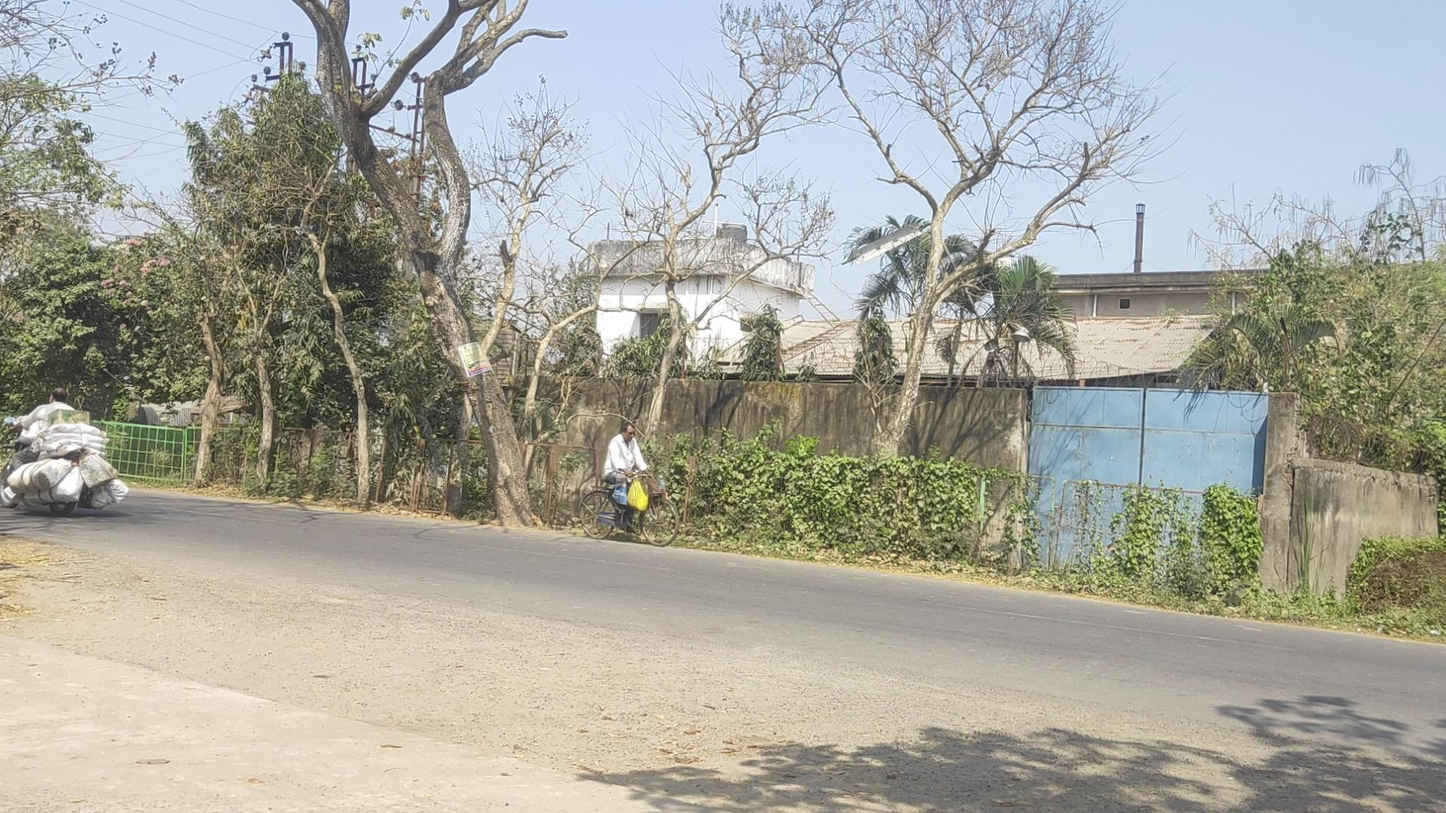bike: (1, 388, 128, 518), (578, 422, 678, 545)
